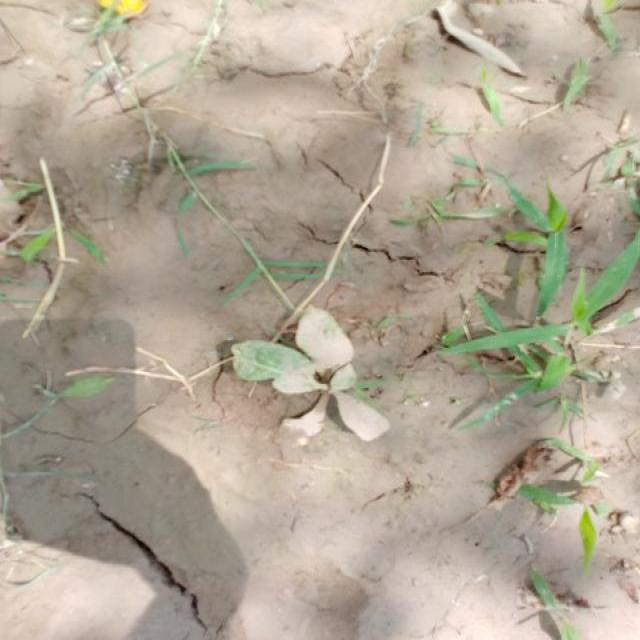crop: (239, 315, 378, 438)
